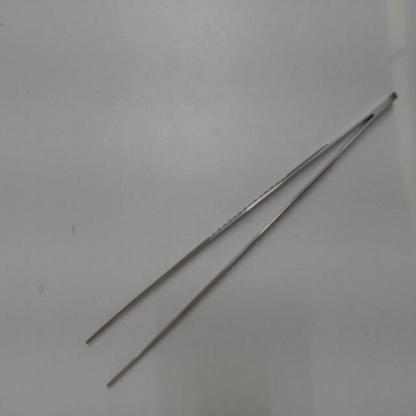DeBakey Dissector: (74, 73, 407, 404)
